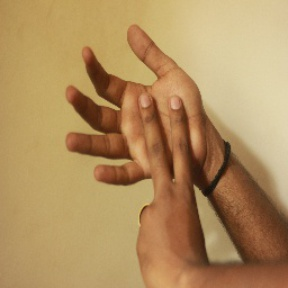N: (52, 17, 208, 268)
